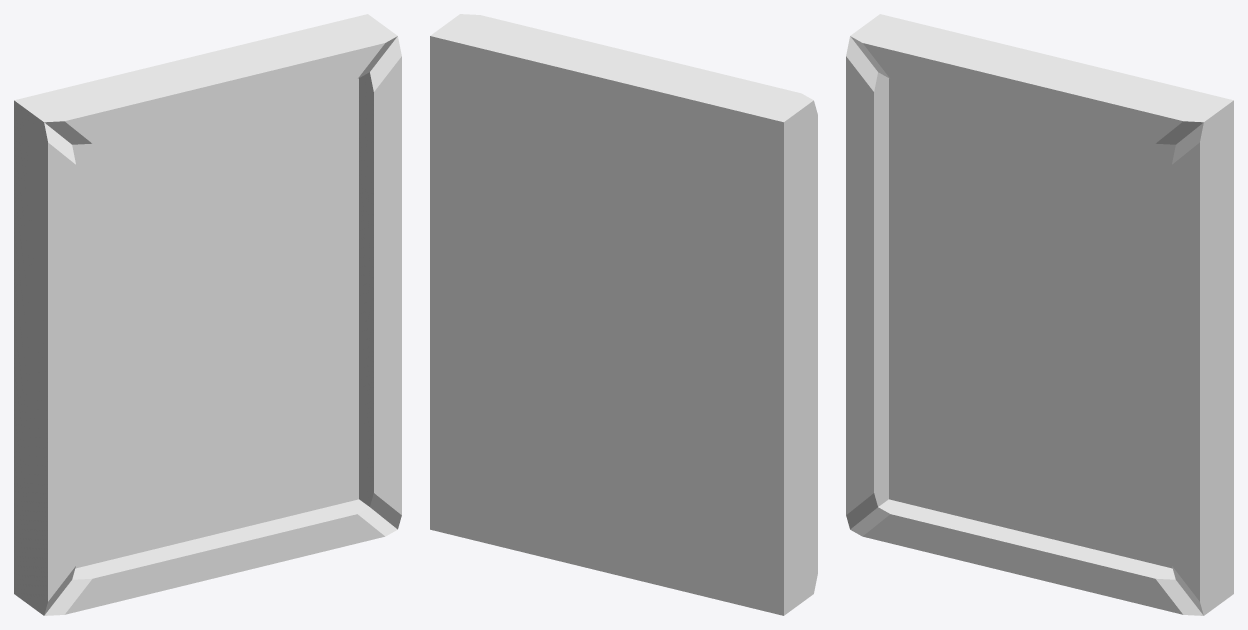
File: Dost_Throne_Picture.FBX
3 renders of one model, left to right at view 1: azimuth 30°, elevation 25°; view 2: azimuth 150°, elevation 25°; view 3: azimuth 330°, elevation 25°, orthographic.
Visible parts, largest first — view 1: Box001; view 2: Box001; view 3: Box001.
Part boxes in pixels (bbox=[...]): Box001: bbox=[14, 14, 401, 615]; Box001: bbox=[430, 14, 817, 615]; Box001: bbox=[846, 14, 1233, 615].
Size of the model in its own units: 30 by 40 by 5.
